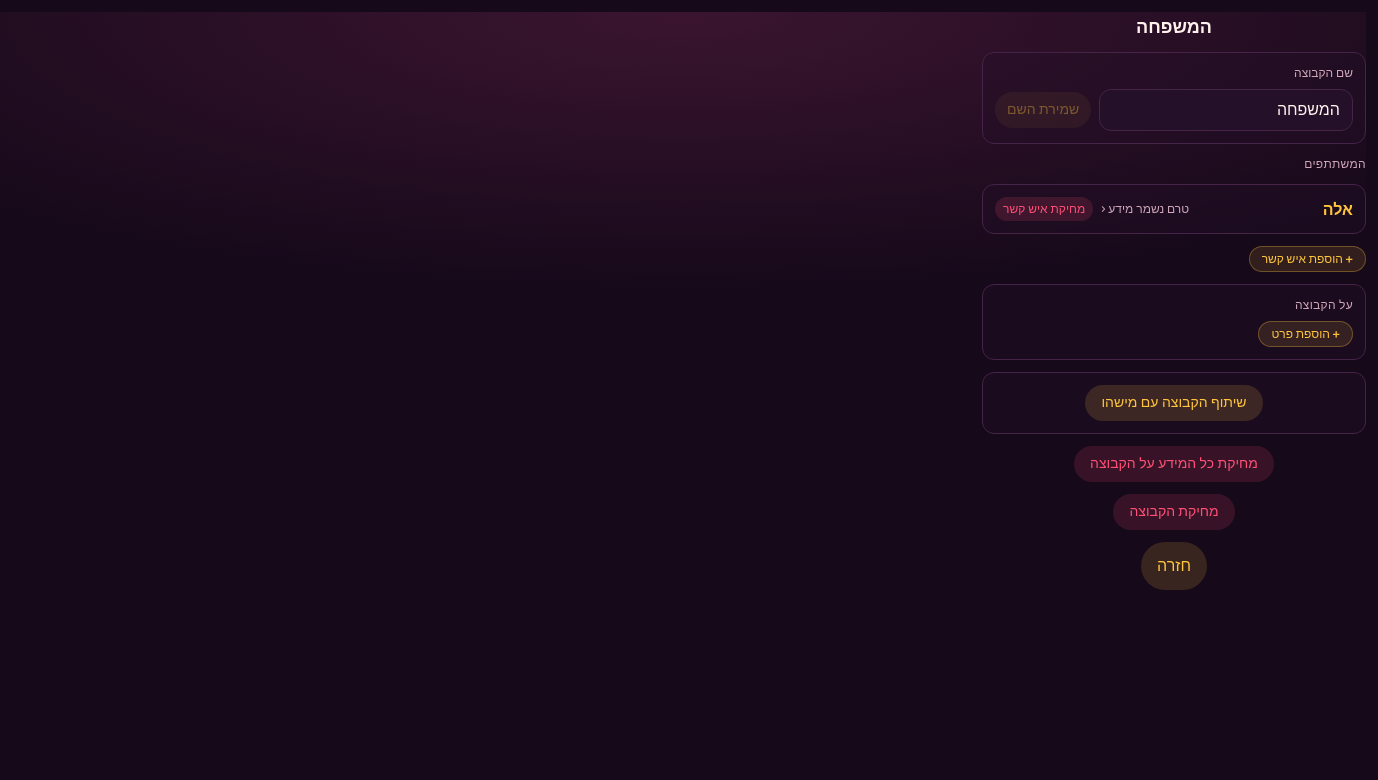
adding a person to the group › says plainly when the name is already in the group
Click the button "+ הוספת איש קשר": click(1307, 259) left=1249, top=246, right=1366, bottom=272
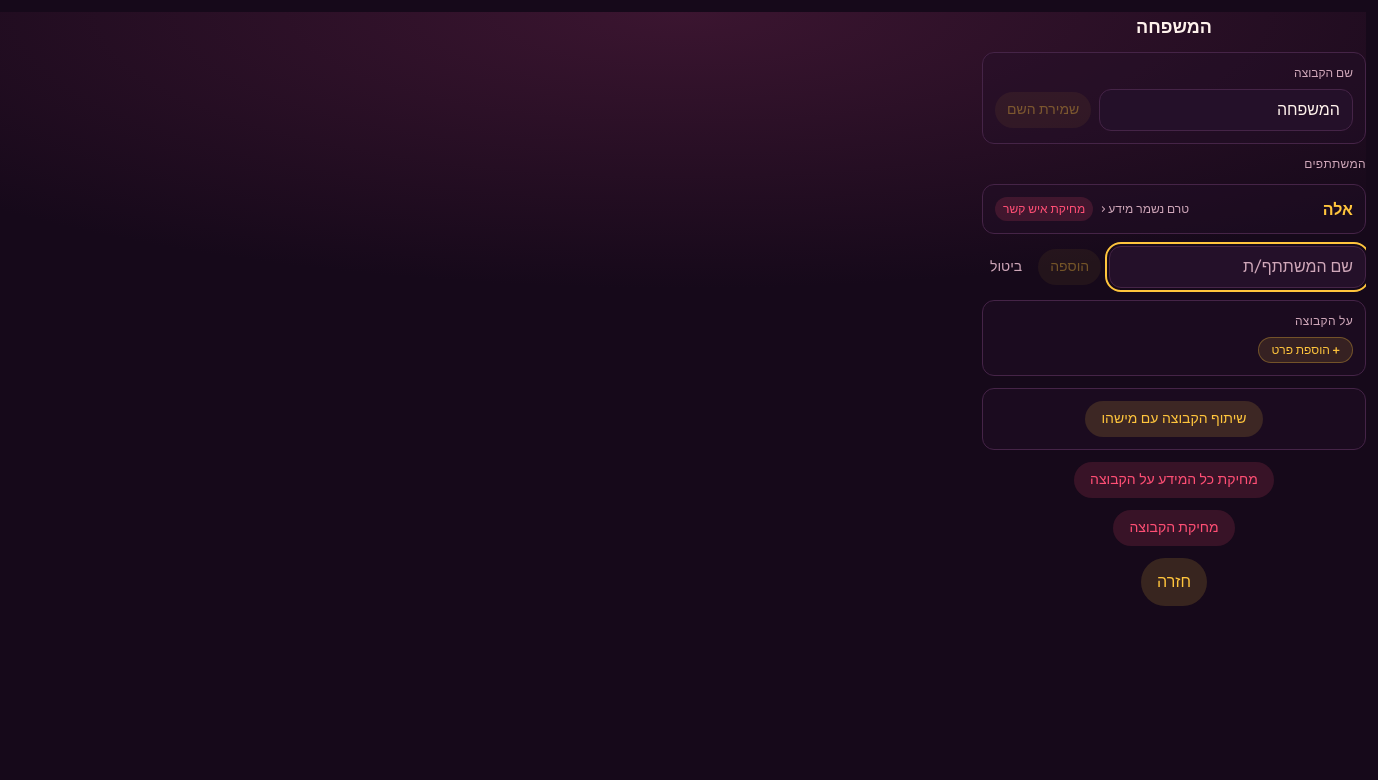
In the field with placeholder "שם המשתתף/ת": (1238, 267) left=1109, top=246, right=1366, bottom=288, type "אלה"
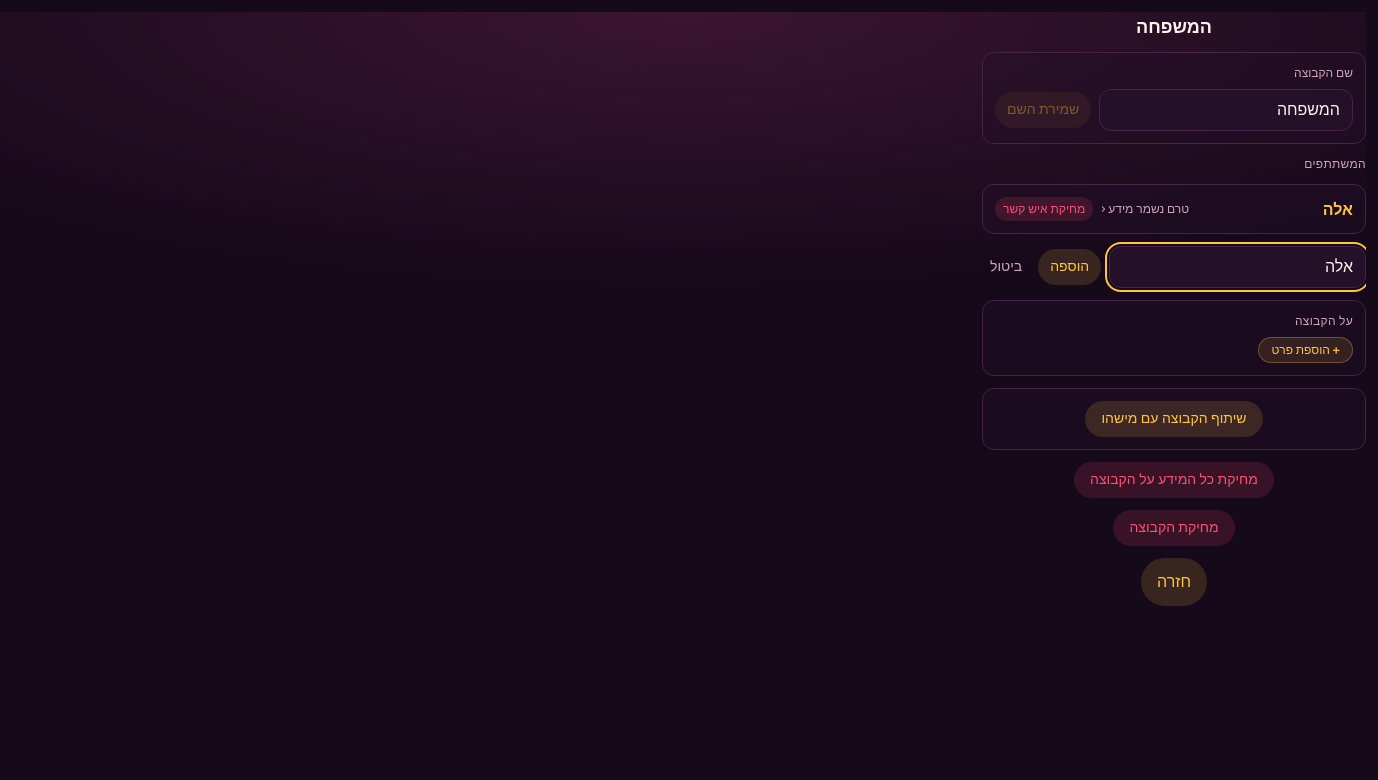
Click the button "הוספה": click(1070, 267) left=1038, top=249, right=1101, bottom=285
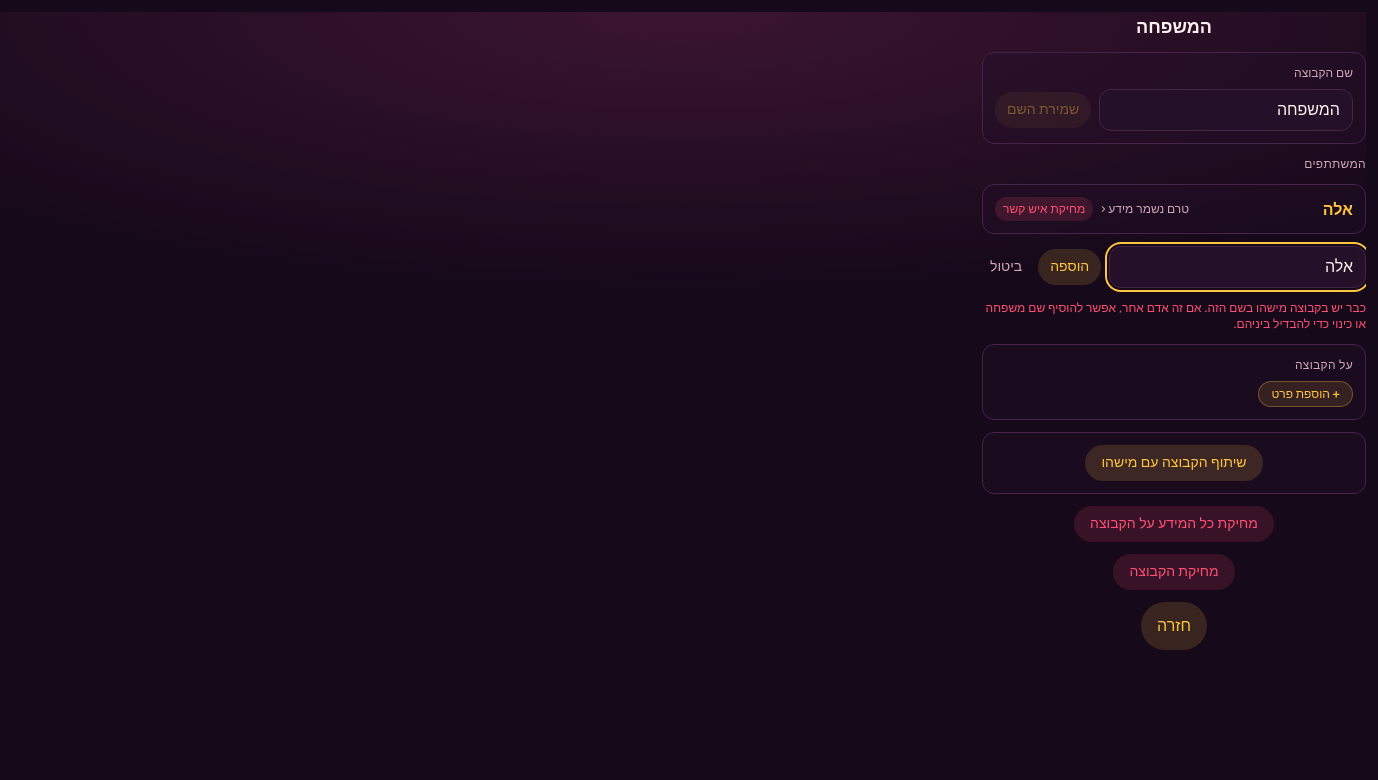
expect the text "כבר יש בקבוצה מישהו בשם הזה. אם זה אדם אחר, אפשר להוסיף שם משפחה או כינוי כדי להבדיל ביניהם." is shown: met, box left=986, top=301, right=1366, bottom=331
